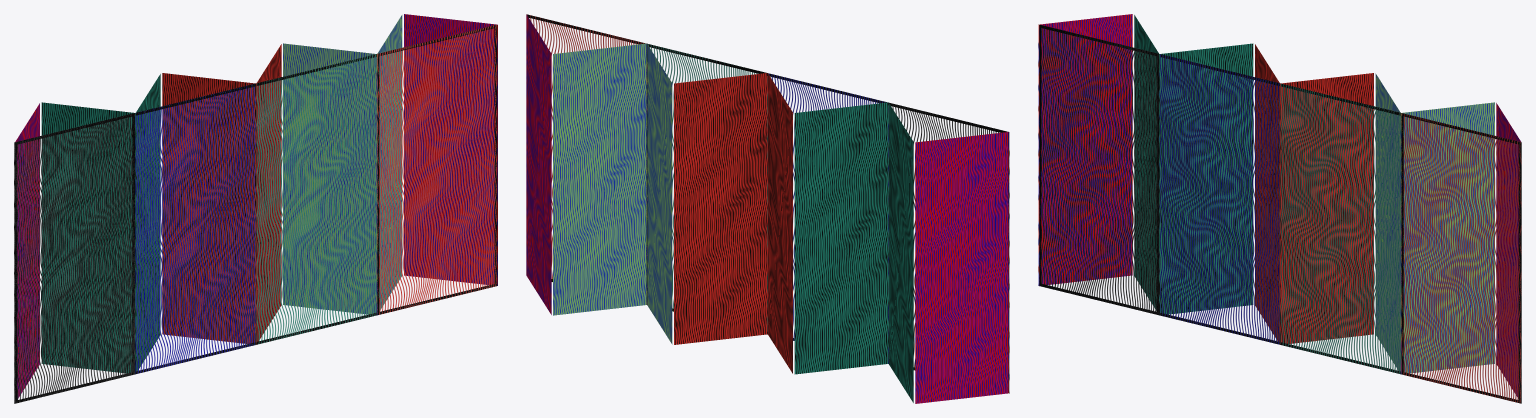
File: windowLarge.glb
3 renders of one model, left to right at view 1: azimuth 30°, elevation 25°; view 2: azimuth 150°, elevation 25°; view 3: azimuth 330°, elevation 25°, orthographic.
Visible parts, largest first — view 1: larger panels.002, larger panels, larger panels.003, larger panels.001, fins 11 15 26 A.006, fins 11 15 26 A, fins 11 15 26 A.007, fins 11 15 26 A.005, frame.001; view 2: larger panels.002, larger panels.001, larger panels, larger panels.003, frame.001, fins 11 15 26 A.005, fins 11 15 26 A, fins 11 15 26 A.006, fins 11 15 26 A.007; view 3: larger panels.002, larger panels, larger panels.003, larger panels.001, fins 11 15 26 A.006, fins 11 15 26 A, fins 11 15 26 A.007, fins 11 15 26 A.005, frame.001.
Boxes of the visible parts, bbox=[...] form: larger panels.002: bbox=[135, 73, 256, 370]; larger panels: bbox=[256, 43, 376, 344]; larger panels.003: bbox=[15, 102, 135, 398]; larger panels.001: bbox=[377, 14, 497, 315]; fins 11 15 26 A.006: bbox=[255, 54, 376, 344]; fins 11 15 26 A: bbox=[135, 84, 255, 373]; fins 11 15 26 A.007: bbox=[376, 25, 496, 315]; fins 11 15 26 A.005: bbox=[14, 113, 134, 403]; frame.001: bbox=[14, 25, 497, 403]; larger panels.002: bbox=[767, 73, 888, 374]; larger panels.001: bbox=[526, 14, 646, 315]; larger panels: bbox=[647, 44, 767, 344]; larger panels.003: bbox=[888, 103, 1008, 403]; frame.001: bbox=[527, 14, 1009, 388]; fins 11 15 26 A.005: bbox=[889, 103, 1009, 393]; fins 11 15 26 A: bbox=[768, 73, 888, 363]; fins 11 15 26 A.006: bbox=[648, 44, 767, 334]; fins 11 15 26 A.007: bbox=[527, 14, 647, 303]; larger panels.002: bbox=[1159, 43, 1280, 344]; larger panels: bbox=[1280, 73, 1400, 373]; larger panels.003: bbox=[1038, 14, 1158, 310]; larger panels.001: bbox=[1401, 102, 1520, 397]; fins 11 15 26 A.006: bbox=[1279, 83, 1400, 373]; fins 11 15 26 A: bbox=[1159, 54, 1279, 344]; fins 11 15 26 A.007: bbox=[1401, 113, 1521, 403]; fins 11 15 26 A.005: bbox=[1038, 28, 1158, 314]; frame.001: bbox=[1039, 24, 1521, 403].
Bounding box in the file's own units: 172 × 89 × 21.21.
13 materials, 12 textured.
